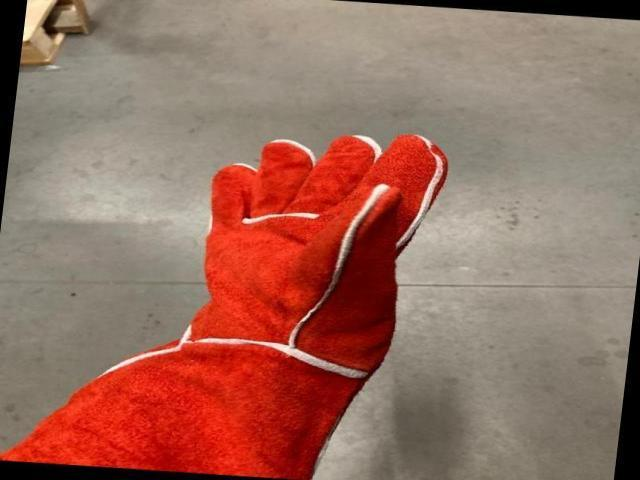Hand-in-Glove: (50, 108, 485, 480)
